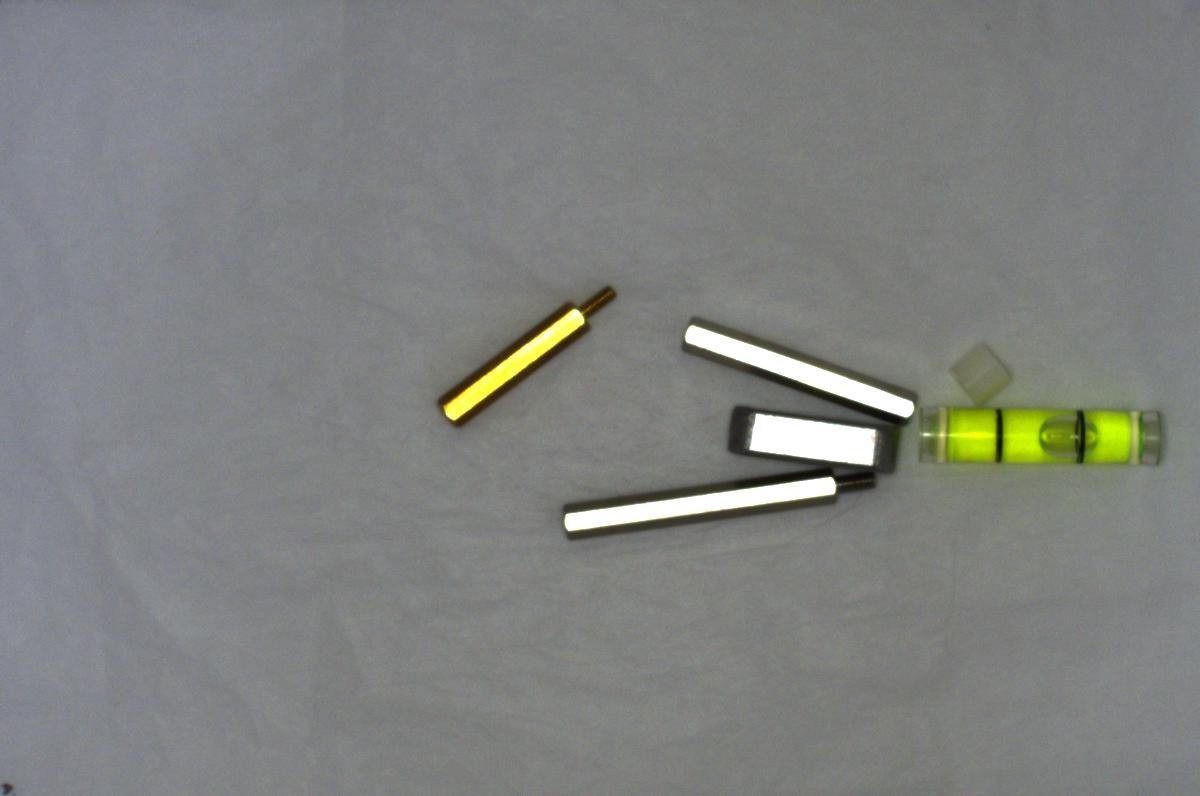Double hexagonal column: (676, 310, 925, 422)
Hexagon pillar: (438, 271, 615, 430)
Hexagonal steel column: (548, 465, 891, 539)
Horizontal bubble: (902, 394, 1167, 478)
Keybar: (721, 395, 907, 481)
Plastic cushion pillar: (948, 333, 1023, 410)
